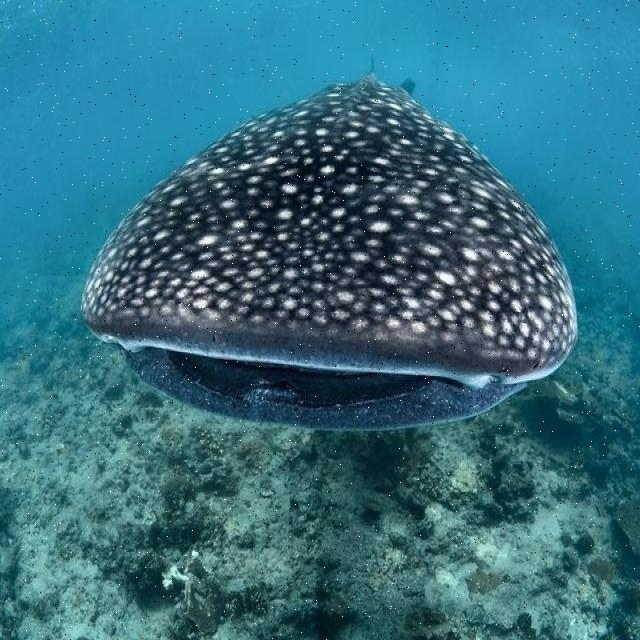fish: (80, 56, 579, 433)
